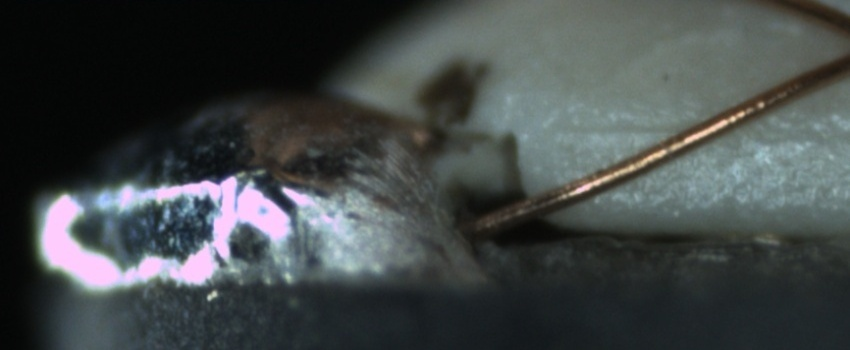DL: (566, 98, 843, 161)
